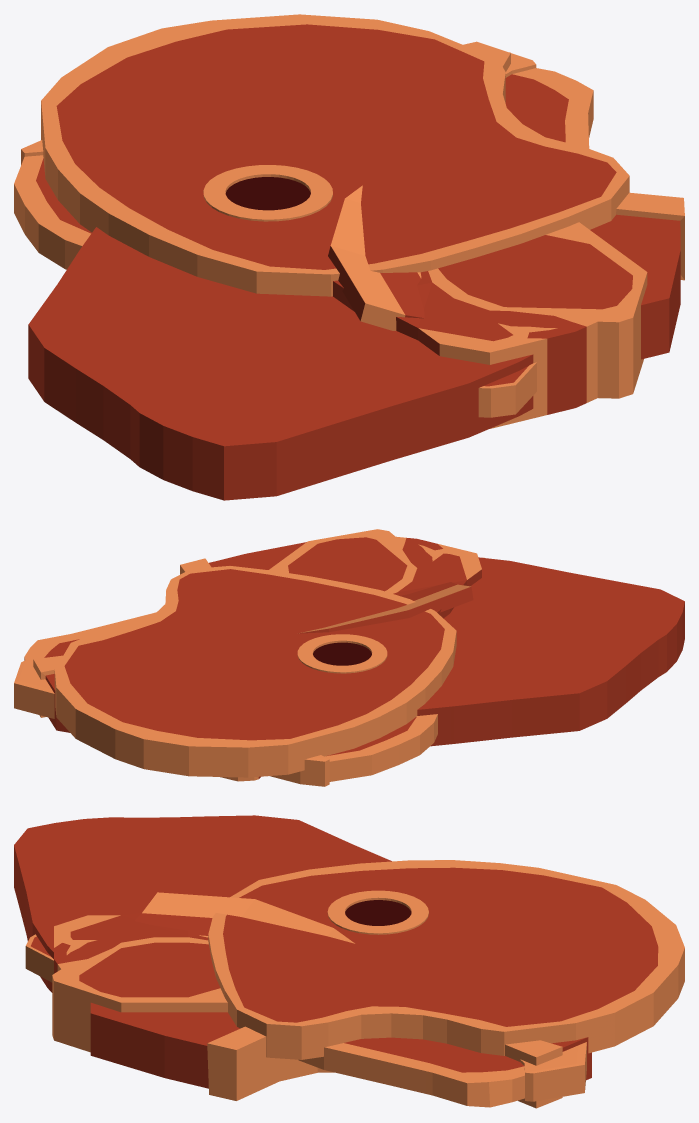
File: Meats.fbx
3 views of the same model, one above another, from view 1: azimuth 30°, elevation 25°; view 2: azimuth 150°, elevation 25°; view 3: azimuth 270°, elevation 25° (orthographic). The views are drawn at different scales.
Parts seen in each view (by area): view 1: CookedMeat2, CookedMeat1, CookedMeat4, CookedMeat3, CookedMeat5; view 2: CookedMeat2, CookedMeat1, CookedMeat4, CookedMeat3, CookedMeat5; view 3: CookedMeat2, CookedMeat1, CookedMeat4, CookedMeat3, CookedMeat5.
Boxes of the visible parts, x1,y1,x2,y2 form: CookedMeat2: (41,14,629,296); CookedMeat1: (28,47,684,500); CookedMeat4: (333,222,647,428); CookedMeat3: (14,41,593,417); CookedMeat5: (328,185,424,330); CookedMeat2: (54,566,456,777); CookedMeat1: (33,542,684,746); CookedMeat4: (220,529,481,781); CookedMeat3: (14,557,484,786); CookedMeat5: (298,582,473,633); CookedMeat2: (208,860,684,1059); CookedMeat1: (14,815,591,1108); CookedMeat4: (52,912,227,1052); CookedMeat3: (25,934,586,1107); CookedMeat5: (135,892,354,943).
Size of the model in its own units: 19.16 by 2.57 by 20.72.
